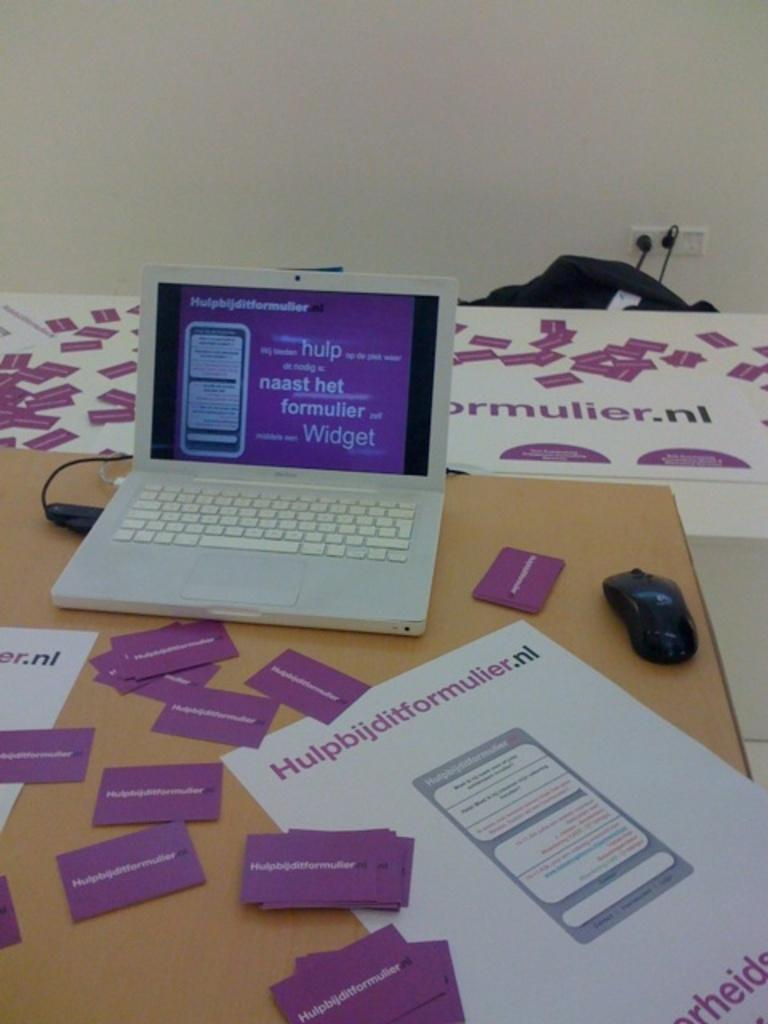Laptop: (53, 275, 453, 653)
